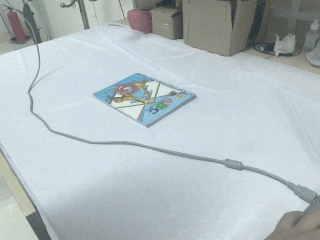book: (92, 72, 197, 130)
bottle: (302, 18, 320, 56)
box: (182, 1, 265, 59), (150, 2, 183, 41)
